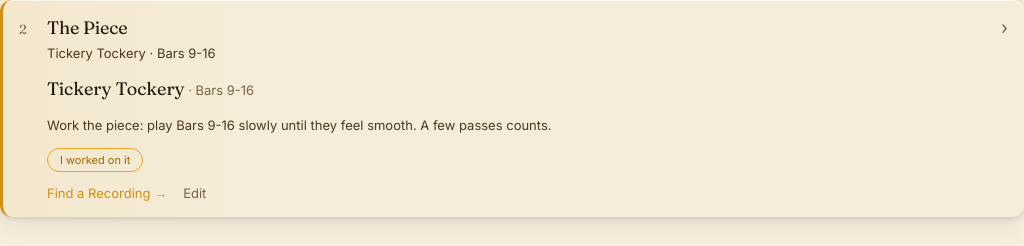
PieceSlot, completion affordance + guidance › 'I worked on it' records a pass on the piece
Click the button with test id "piece-worked-on" at (95, 160), box [47,148,143,172]
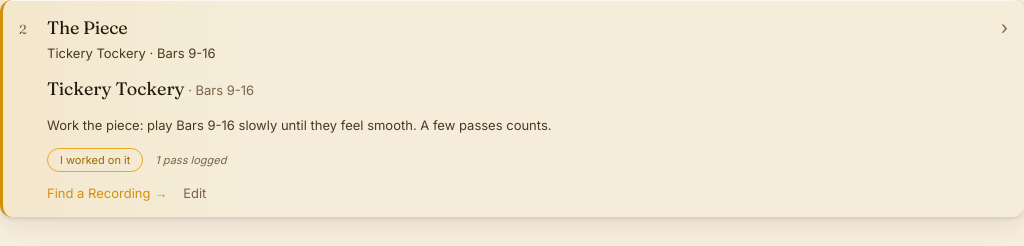
Expected: the text with test id "piece-reps" shows "1 pass", [155,153,226,167]
